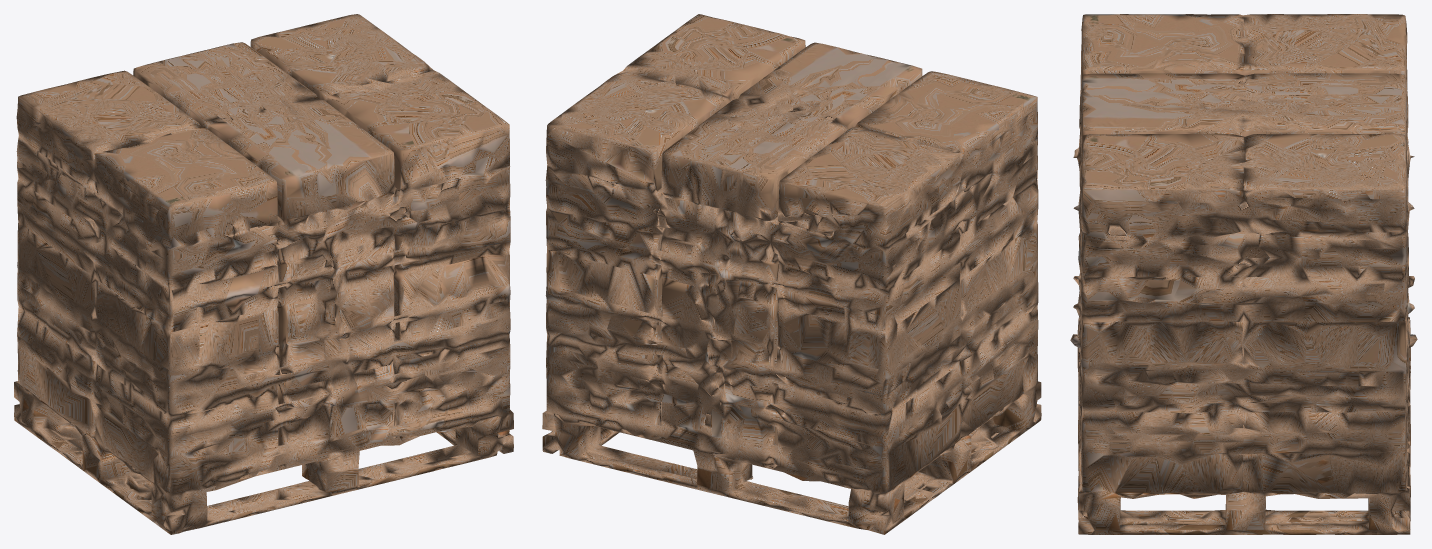
File: pallet-boxes.glb
The picture shows the model from 3 angles, left to right: view 1: azimuth 30°, elevation 25°; view 2: azimuth 150°, elevation 25°; view 3: azimuth 270°, elevation 25°; orthographic projection. The views are drawn at different scales.
Size of the model in its own units: 1.9 by 1.73 by 1.57.
Materials: 1 (1 with a texture image).
